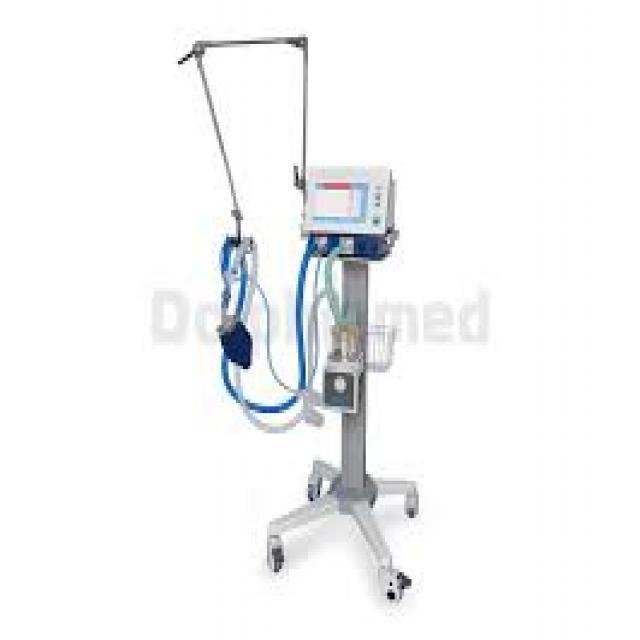ventilator: (177, 40, 431, 640)
